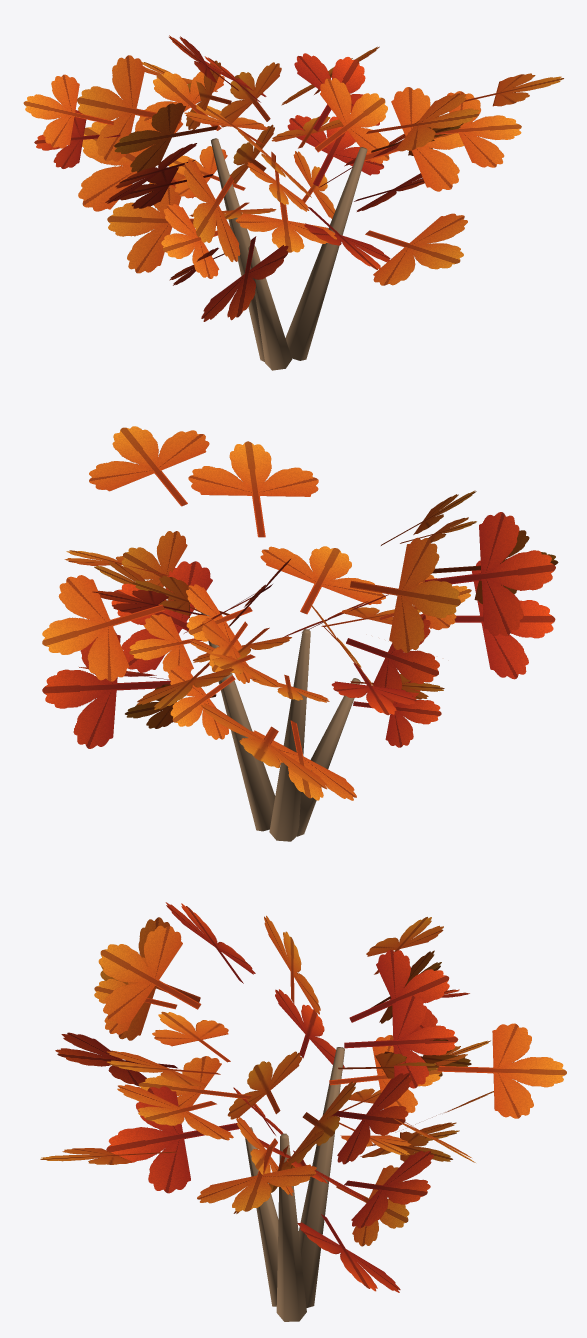
File: maple_small.glb
3 views of the same model, one above another, from view 1: azimuth 30°, elevation 25°; view 2: azimuth 150°, elevation 25°; view 3: azimuth 270°, elevation 25° (orthographic). The views are drawn at different scales.
Visible parts, largest first — view 1: maple_small; view 2: maple_small; view 3: maple_small.
Part boxes in pixels (x1,y1,x2,y2): maple_small: (23,35,563,370); maple_small: (42,426,558,841); maple_small: (40,902,566,1321).
Size of the model in its own units: 2.41 by 1.5 by 2.18.
3 materials, 2 textured.
